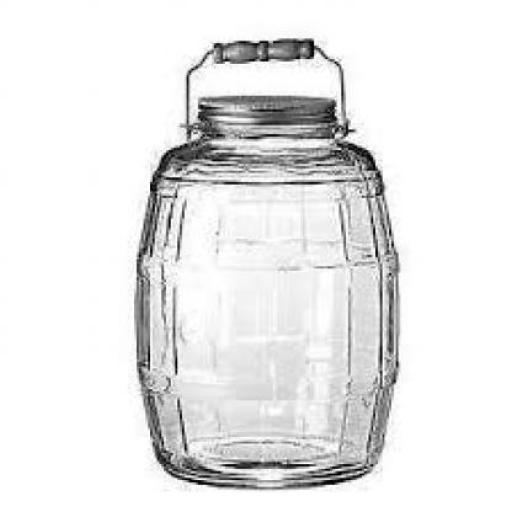glass: (134, 132, 396, 482)
metal: (193, 91, 335, 126)
